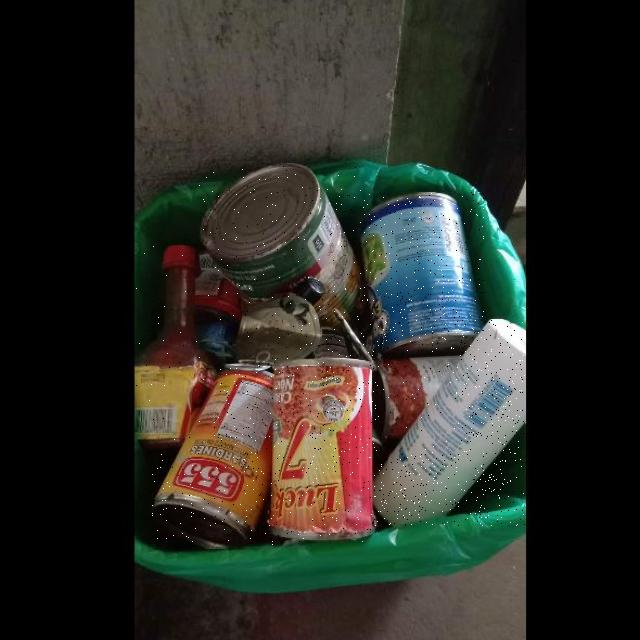metal: (200, 164, 368, 324), (267, 310, 378, 542), (150, 365, 273, 548), (359, 192, 484, 360), (379, 357, 461, 452), (234, 295, 321, 366)
plastic: (372, 319, 525, 526), (134, 246, 215, 452)
